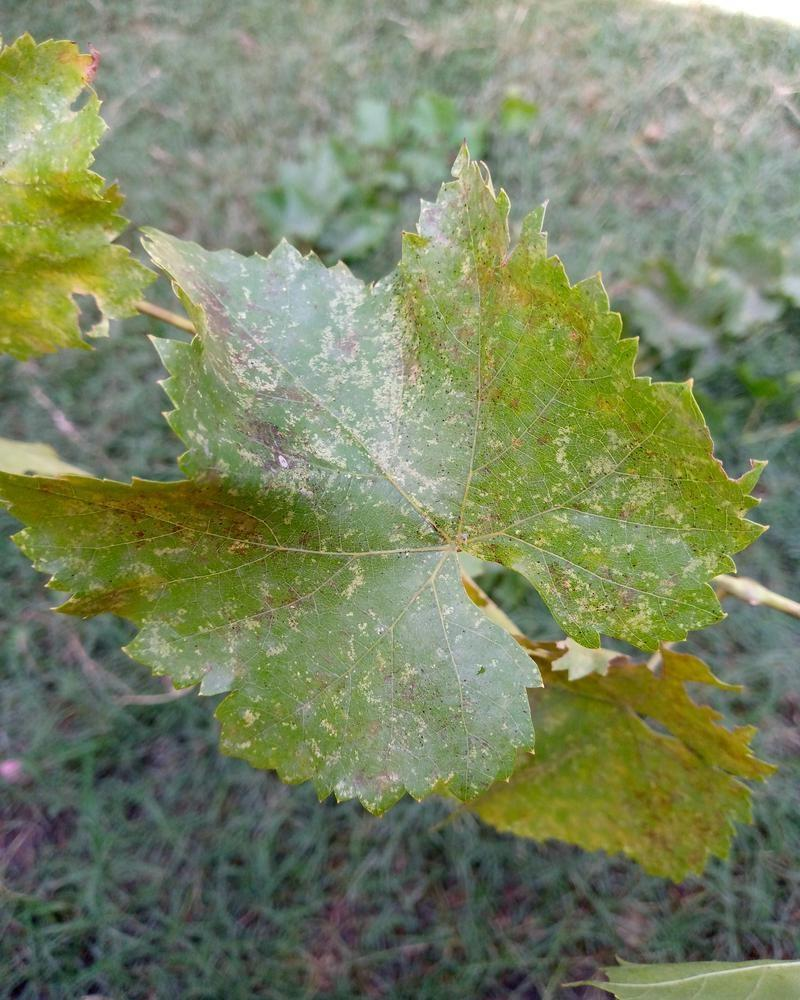Powdery-Mildew: (234, 402, 343, 515), (364, 308, 434, 475), (461, 216, 524, 279), (197, 287, 260, 350), (629, 463, 692, 526), (192, 503, 255, 566)
